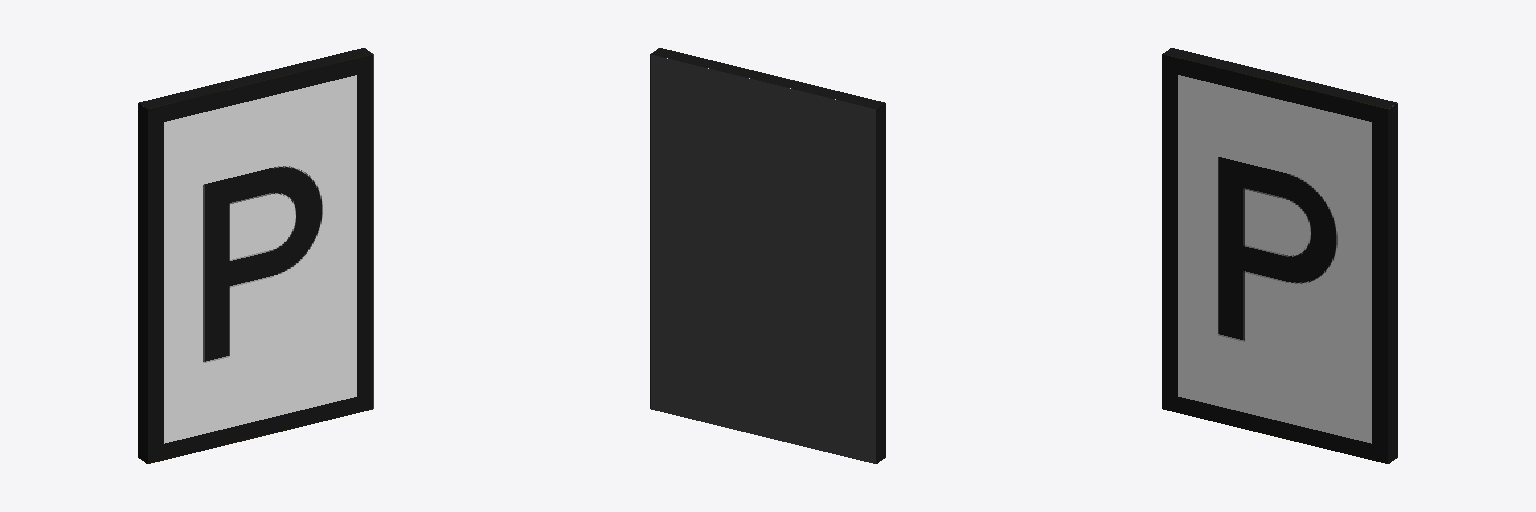
The picture shows the model from 3 angles: view 1: azimuth 30°, elevation 25°; view 2: azimuth 150°, elevation 25°; view 3: azimuth 330°, elevation 25°; orthographic projection.
Visible parts, largest first — view 1: Cube.002; view 2: Cube.002; view 3: Cube.002.
Boxes of the visible parts, x1,y1,x2,y2 form: Cube.002: [138, 48, 373, 463]; Cube.002: [650, 48, 885, 463]; Cube.002: [1162, 48, 1397, 463].
Bounding box in the file's own units: 0.288 × 0.432 × 0.0203.
Materials: 1 (1 with a texture image).